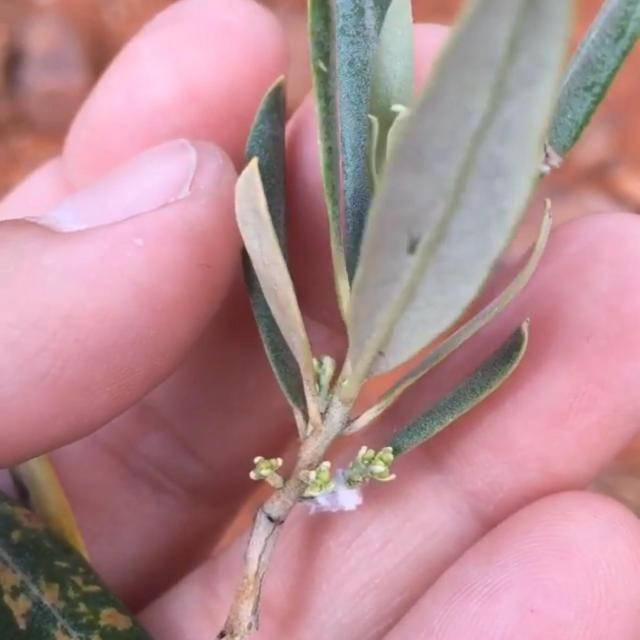Psyllid: (302, 446, 394, 512)
